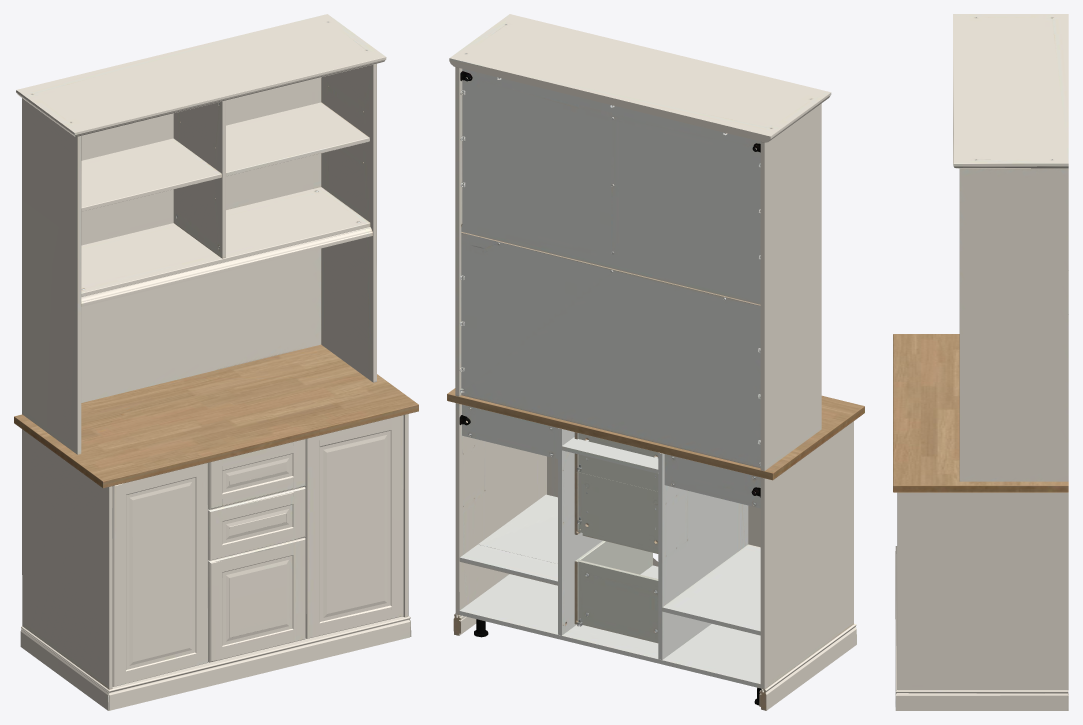
File: onnerup_mini_kuchnia_00500286.glb
3 renders of one model, left to right at view 1: azimuth 30°, elevation 25°; view 2: azimuth 150°, elevation 25°; view 3: azimuth 270°, elevation 25°, orthographic. The views are drawn at different scales.
Parts seen in each view (by area): view 1: onnerup_mini_kuchnia_00500286; view 2: onnerup_mini_kuchnia_00500286; view 3: onnerup_mini_kuchnia_00500286.
Boxes of the visible parts, bbox=[...] form: onnerup_mini_kuchnia_00500286: bbox=[14, 14, 418, 710]; onnerup_mini_kuchnia_00500286: bbox=[447, 14, 864, 710]; onnerup_mini_kuchnia_00500286: bbox=[893, 14, 1068, 710].
Size of the model in its own units: 1.3 by 2.19 by 0.6354.
Materials: 1 (1 with a texture image).
